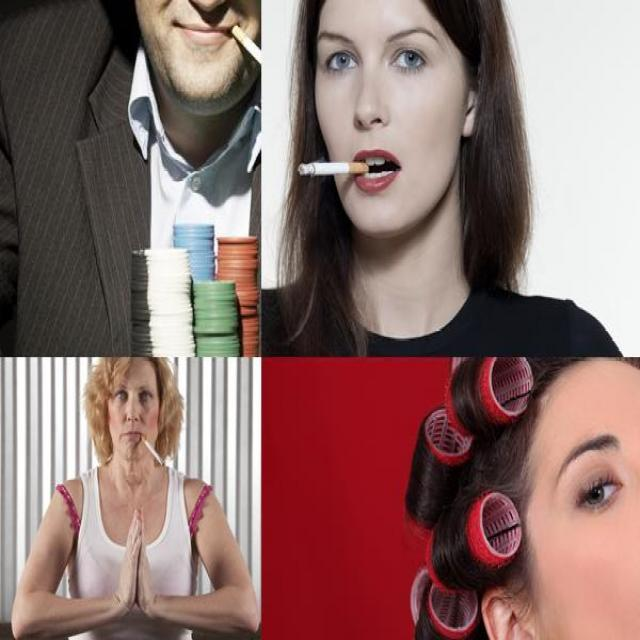smoke: (284, 153, 394, 196), (230, 24, 260, 90), (138, 433, 166, 468)
